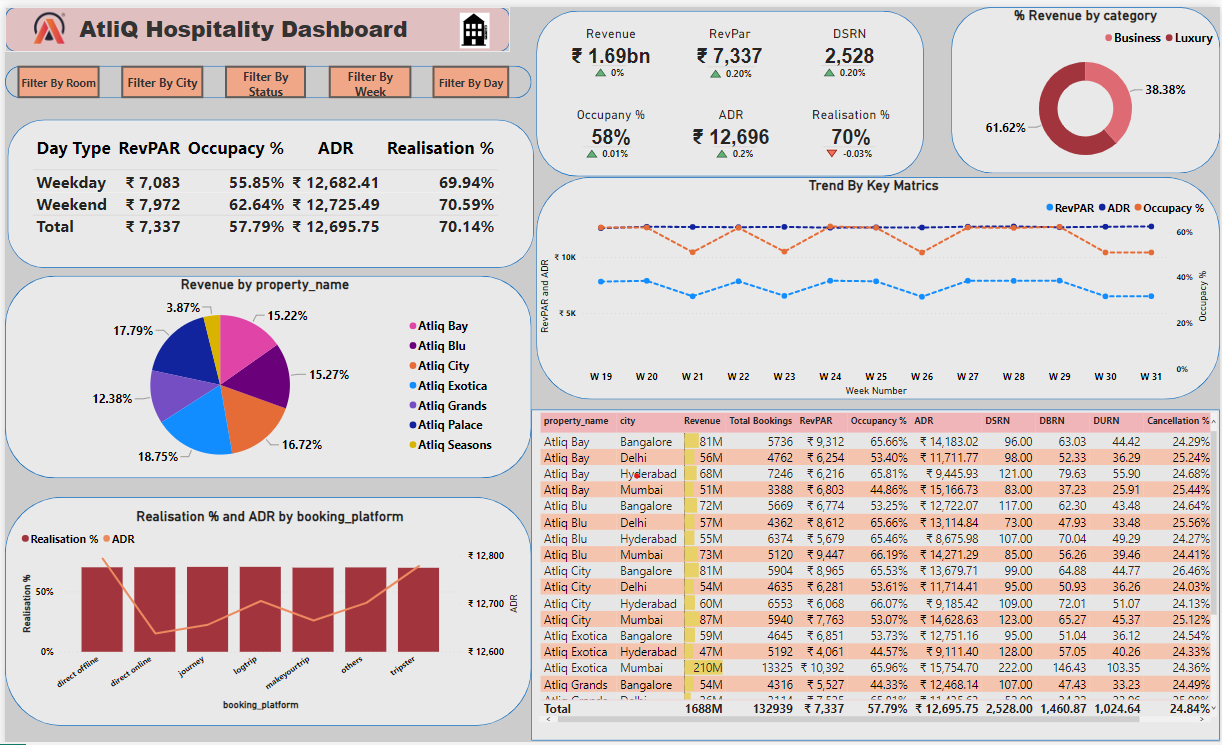

Layout of this report page (visuals, bound fields, positions):
{"tool":"powerbi","page":{"name":"Page 1","canvas":[1800,1100],"ordinal":0},"visuals":[{"type":"shape","box":[3.7,166.7,779.6,220.4],"z":0},{"type":"tableEx","fields":{"Values":["Dim-Date.Day Type","#Measuress.RevPAR","#Measuress.Occupacy %","#Measuress.ADR","#Measuress.Realisation %"]},"box":[35.2,185.2,700,185.2],"z":1000},{"type":"shape","box":[779.6,596.3,1020.4,490.7],"z":2000},{"type":"shape","box":[0,725.9,779.6,338.9],"z":3000},{"type":"shape","box":[0,398.1,779.6,300],"z":4000},{"type":"shape","box":[787,251.9,1013,329.6],"z":5000},{"type":"shape","box":[1401.9,0,398.1,246.3],"z":6000},{"type":"shape","box":[787.3,5.1,574.7,245.6],"z":7000},{"type":"tableEx","fields":{"Values":["#Measuress.Revpar WoW change %"]},"box":[1032.9,57,103.8,64.6],"z":8000},{"type":"tableEx","fields":{"Values":["#Measuress.Revenue WoW change %"]},"box":[863.3,55.7,79.7,64.6],"z":9000},{"type":"shape","box":[0,0,748.1,66.7],"z":10000},{"type":"shape","box":[0,87.3,779.7,48.1],"z":11000},{"type":"image","box":[642.6,3.7,105.6,63],"z":12000},{"type":"image","box":[18.5,1.9,94.4,57.4],"z":13000},{"type":"textbox","box":[79.7,3.8,546.8,58.2],"z":14000},{"type":"actionButton","title":"Filter by Room","box":[19,87.3,121.5,48.1],"z":15000},{"type":"actionButton","box":[172.2,87.3,121.5,48.1],"z":18000},{"type":"actionButton","box":[325.3,87.3,120.3,48.1],"z":23000},{"type":"actionButton","box":[479.7,87.3,122.8,48.1],"z":27000},{"type":"actionButton","box":[634.2,87.3,113.9,48.1],"z":33000},{"type":"card","title":"Revenue","fields":{"Values":["Sum(Fact-Bookings.revenue_realized)"]},"box":[832.9,27.8,129.1,68.4],"z":35000},{"type":"card","title":"RevPar","fields":{"Values":["#Measuress.RevPAR"]},"box":[1011.4,27.8,125.3,68.4],"z":36000},{"type":"card","title":"DSRN","fields":{"Values":["#Measuress.DSRN"]},"box":[1188.6,27.8,125.3,68.4],"z":37000},{"type":"card","title":"ADR","fields":{"Values":["#Measuress.ADR"]},"box":[1011.4,148.1,129.1,67.1],"z":38000},{"type":"card","title":"Occupany %","fields":{"Values":["#Measuress.Occupacy %"]},"box":[832.9,148.1,129.1,68.4],"z":39000},{"type":"card","title":"Realisation %","fields":{"Values":["#Measuress.Realisation %"]},"box":[1188.6,148.1,129.1,67.1],"z":40000},{"type":"tableEx","fields":{"Values":["#Measuress.Occupancy WoW change %"]},"box":[850.6,175.9,134.2,60.8],"z":41000},{"type":"tableEx","fields":{"Values":["#Measuress.ADR WoW change %"]},"box":[1043,175.9,106.3,73.4],"z":42000},{"type":"tableEx","fields":{"Values":["#Measuress.Realisation WoW change %"]},"box":[1206.3,175.9,93.7,64.6],"z":43000},{"type":"tableEx","fields":{"Values":["#Measuress.Revpar WoW change %"]},"box":[1201.3,55.7,103.8,64.6],"z":44000},{"type":"donutChart","title":"% Revenue by category","fields":{"Y":["#Measuress.Revenue"],"Category":["Dim-Hotels.category"]},"box":[1401.9,0,398.1,244.4],"z":45000},{"type":"tableEx","fields":{"Values":["Dim-Hotels.property_name","Dim-Hotels.city","#Measuress.Revenue","#Measuress.Total Bookings","#Measuress.RevPAR","#Measuress.Occupacy %","#Measuress.ADR","#Measuress.DSRN","#Measuress.DBRN","#Measuress.DURN","#Measuress.Cancellation %","#Measuress.Avg Ratings"]},"box":[787,596.3,1013,468.5],"z":46000},{"type":"lineChart","title":"Trend By Key Matrics","fields":{"Category":["Dim-Date.mmm yy.Variation.Date Hierarchy.Year","Dim-Date.week no"],"Y":["#Measuress.RevPAR","#Measuress.ADR"],"Y2":["#Measuress.Occupacy %"]},"box":[787,251.9,1000,329.6],"z":47000},{"type":"pieChart","fields":{"Category":["Dim-Hotels.property_name"],"Y":["#Measuress.Revenue"]},"box":[35.2,398.1,700,300],"z":48000},{"type":"lineStackedColumnComboChart","fields":{"Category":["Fact-Bookings.booking_platform"],"Y":["#Measuress.Realisation %"],"Y2":["#Measuress.ADR"]},"box":[18.5,742.6,748.1,303.7],"z":49000}]}

Visuals, with their boxes in screenshot pixels (x1, y1, x2, y2), scaled from the page's 1800x1100 canvas onto the 1222x745 screenshot:
shape: <region>3, 113, 532, 262</region>
tableEx - Dim-Date.Day Type x #Measuress.RevPAR: <region>24, 125, 499, 251</region>
shape: <region>529, 404, 1221, 736</region>
shape: <region>0, 492, 529, 721</region>
shape: <region>0, 270, 529, 473</region>
shape: <region>534, 171, 1221, 394</region>
shape: <region>952, 0, 1221, 167</region>
shape: <region>534, 3, 925, 170</region>
tableEx - #Measuress.Revpar WoW change %: <region>701, 39, 772, 82</region>
tableEx - #Measuress.Revenue WoW change %: <region>586, 38, 640, 81</region>
shape: <region>0, 0, 508, 45</region>
shape: <region>0, 59, 529, 92</region>
image: <region>436, 3, 508, 45</region>
image: <region>13, 1, 77, 40</region>
textbox: <region>54, 3, 425, 42</region>
"Filter by Room" actionButton: <region>13, 59, 95, 92</region>
actionButton: <region>117, 59, 199, 92</region>
actionButton: <region>221, 59, 303, 92</region>
actionButton: <region>326, 59, 409, 92</region>
actionButton: <region>431, 59, 508, 92</region>
"Revenue" card: <region>565, 19, 653, 65</region>
"RevPar" card: <region>687, 19, 772, 65</region>
"DSRN" card: <region>807, 19, 892, 65</region>
"ADR" card: <region>687, 100, 774, 146</region>
"Occupany %" card: <region>565, 100, 653, 147</region>
"Realisation %" card: <region>807, 100, 895, 146</region>
tableEx - #Measuress.Occupancy WoW change %: <region>577, 119, 669, 160</region>
tableEx - #Measuress.ADR WoW change %: <region>708, 119, 780, 169</region>
tableEx - #Measuress.Realisation WoW change %: <region>819, 119, 883, 163</region>
tableEx - #Measuress.Revpar WoW change %: <region>816, 38, 886, 81</region>
"% Revenue by category" donutChart: <region>952, 0, 1221, 166</region>
tableEx - Dim-Hotels.property_name x Dim-Hotels.city: <region>534, 404, 1221, 721</region>
"Trend By Key Matrics" lineChart: <region>534, 171, 1213, 394</region>
pieChart - Dim-Hotels.property_name x #Measuress.Revenue: <region>24, 270, 499, 473</region>
lineStackedColumnComboChart - Fact-Bookings.booking_platform x #Measuress.Realisation %: <region>13, 503, 520, 709</region>
